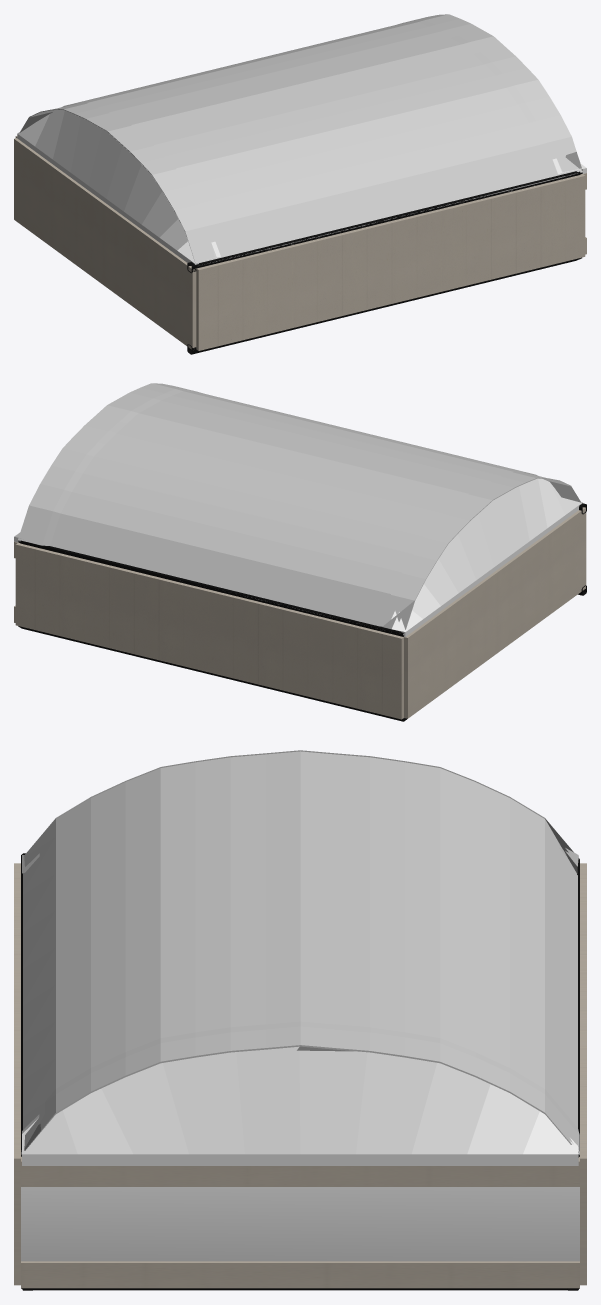
File: lab estufa 2.fbx
3 views of the same model, one above another, from view 1: azimuth 30°, elevation 25°; view 2: azimuth 150°, elevation 25°; view 3: azimuth 270°, elevation 25° (orthographic). The views are drawn at different scales.
Visible parts, largest first — view 1: teto vidro, paredes lados, parede fundo, vidro tras teto, chanfros; view 2: teto vidro, paredes lados, parede fundo, vidro tras teto, chanfros; view 3: teto vidro, vidro frente teto, janela, paredes frente, paredes lados, chanfros.
Part boxes in pixels (x1,y1,x2,y2): teto vidro: [19, 14, 582, 265]; paredes lados: [15, 136, 585, 350]; parede fundo: [14, 138, 196, 349]; vidro tras teto: [17, 109, 220, 264]; chanfros: [187, 171, 582, 354]; teto vidro: [18, 383, 581, 635]; paredes lados: [15, 542, 403, 719]; parede fundo: [404, 507, 586, 718]; vidro tras teto: [391, 478, 582, 636]; chanfros: [18, 503, 586, 721]; teto vidro: [21, 750, 579, 1155]; vidro frente teto: [22, 1046, 578, 1165]; janela: [21, 1187, 579, 1261]; paredes frente: [21, 1156, 579, 1288]; paredes lados: [14, 863, 586, 1285]; chanfros: [21, 853, 579, 1290].
Bounding box in the file's own units: 10229 × 3907 × 8200.
